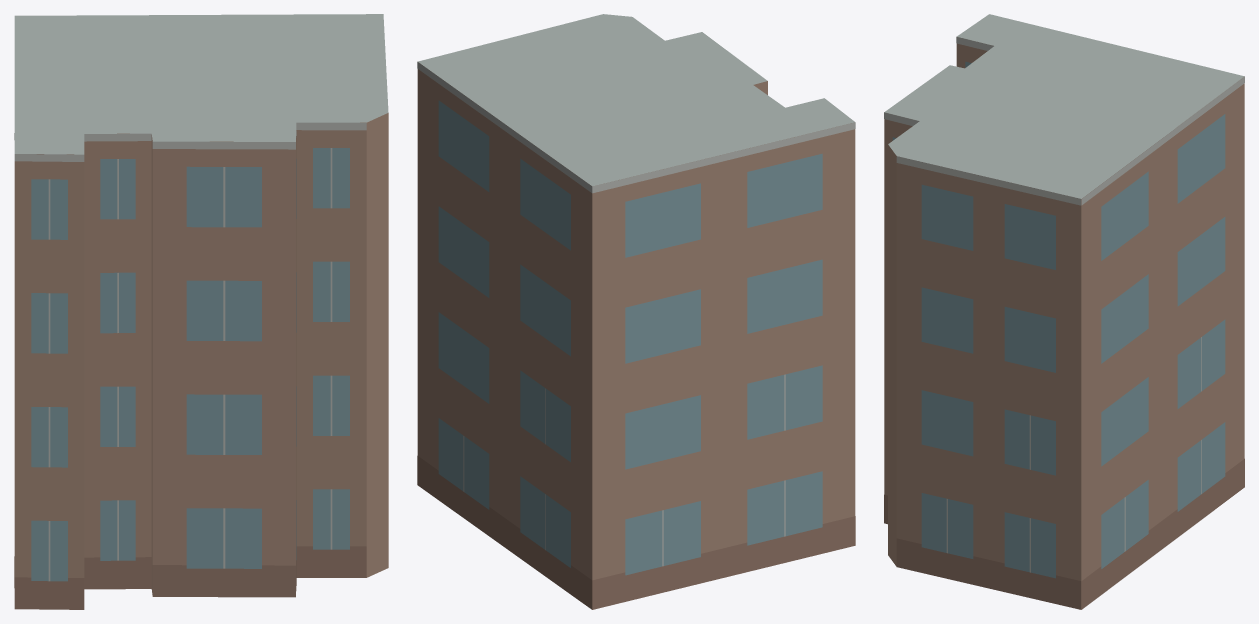
Rendered from survey-upis-32680525.glb.
3 renders of one model, left to right at view 1: azimuth 30°, elevation 25°; view 2: azimuth 150°, elevation 25°; view 3: azimuth 270°, elevation 25°, orthographic. The views are drawn at different scales.
Visible parts, largest first — view 1: survey-upis-32680525.tmp; view 2: survey-upis-32680525.tmp; view 3: survey-upis-32680525.tmp.
Boxes of the visible parts, x1,y1,x2,y2 form: survey-upis-32680525.tmp: (14, 14, 388, 609); survey-upis-32680525.tmp: (417, 14, 855, 609); survey-upis-32680525.tmp: (884, 14, 1244, 609).
Bounding box in the file's own units: 14.29 × 14.8 × 11.78.
